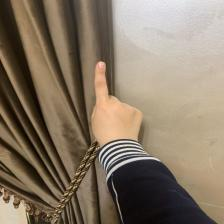one: (88, 58, 146, 150)
